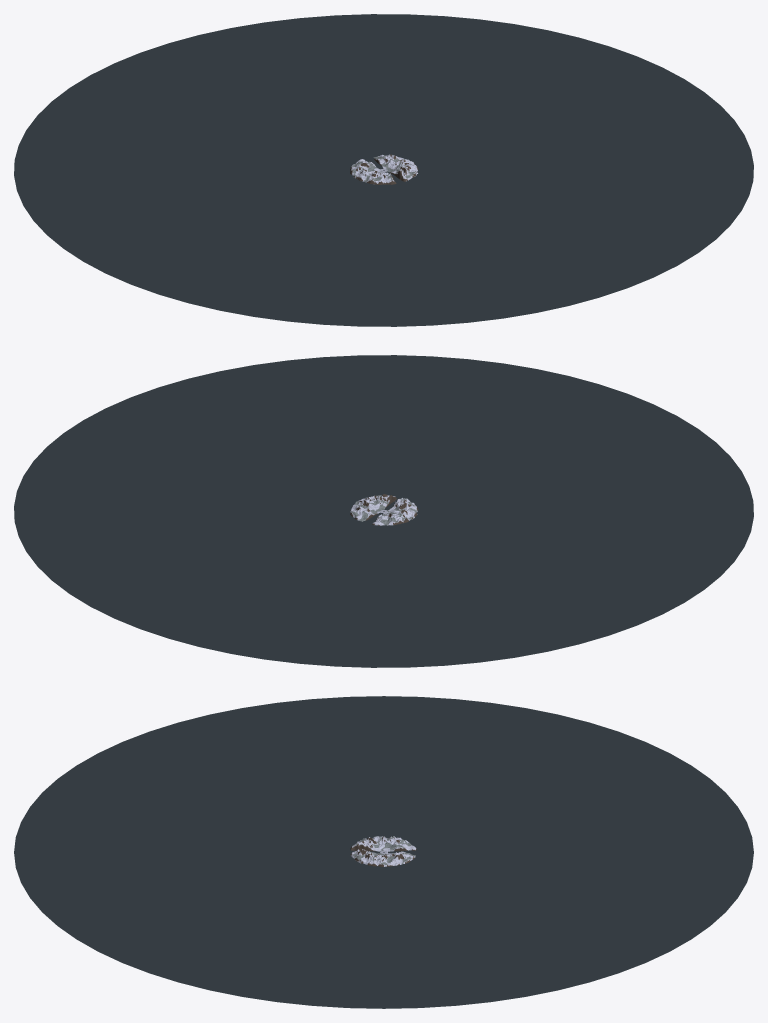
Rendered from backdrop_near_c30_winter.glb.
The picture shows the model from 3 angles, top to bottom: view 1: azimuth 30°, elevation 25°; view 2: azimuth 150°, elevation 25°; view 3: azimuth 270°, elevation 25°; orthographic projection.
Parts seen in each view (by area): view 1: water_N, water_S, water_W, water_E; view 2: water_N, water_S, water_W, water_E; view 3: water_E, water_N, water_S, water_W, near_land_E.
Part boxes in pixels (left/top/right/bottom): water_N: left=26, top=14, right=479, bottom=169; water_S: left=288, top=171, right=741, bottom=326; water_W: left=14, top=130, right=383, bottom=321; water_E: left=384, top=19, right=753, bottom=210; water_N: left=26, top=512, right=479, bottom=667; water_S: left=288, top=355, right=741, bottom=510; water_W: left=384, top=471, right=753, bottom=662; water_E: left=14, top=360, right=383, bottom=551; water_E: left=123, top=863, right=644, bottom=1008; water_N: left=384, top=742, right=753, bottom=962; water_S: left=14, top=742, right=383, bottom=962; water_W: left=123, top=696, right=644, bottom=841; near_land_E: left=360, top=852, right=407, bottom=866.
Bounding box in the file's own units: 6000 × 168 × 6000.
4 materials, 3 textured.
